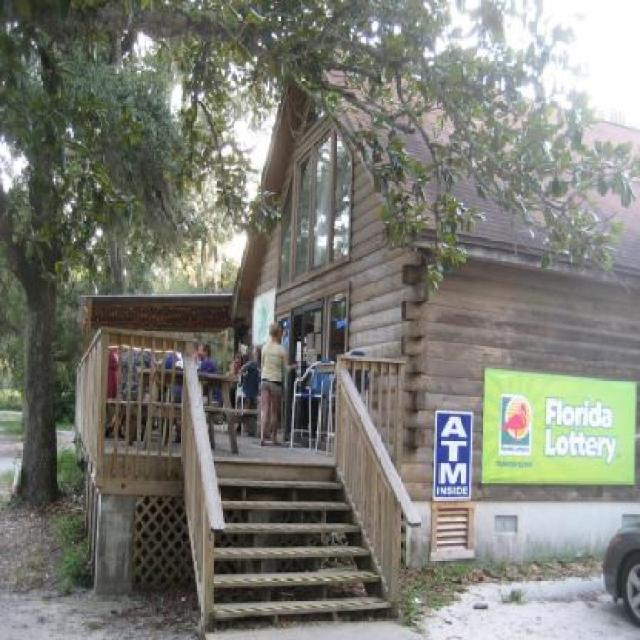stair: (206, 460, 394, 634)
